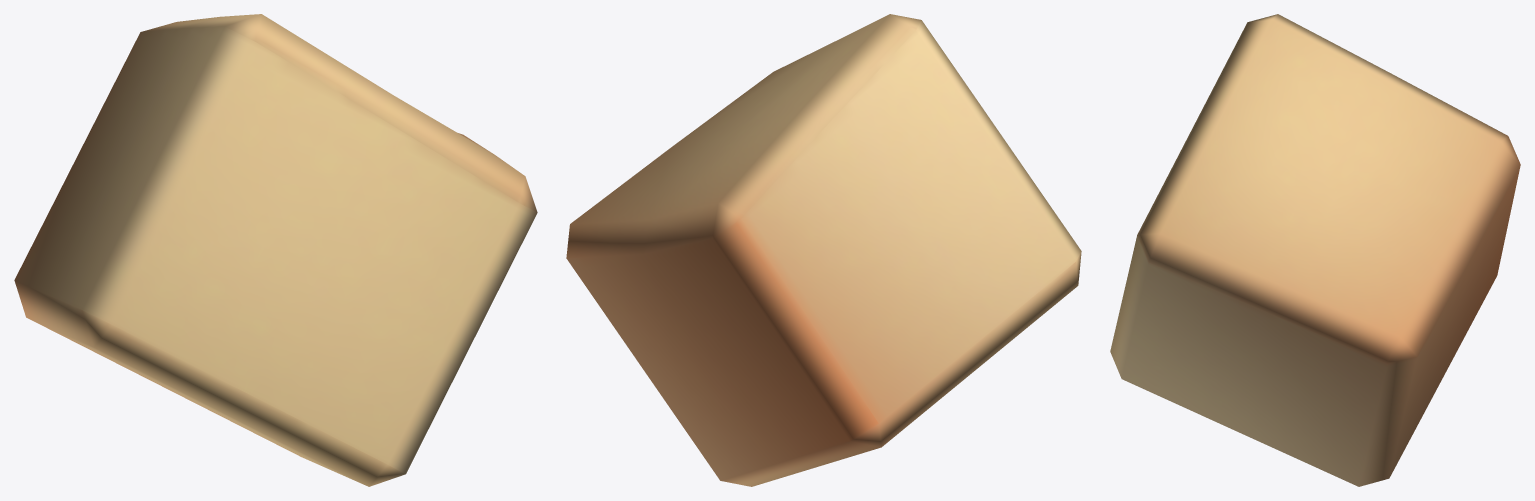
Rendered from JapaneseRestaurant_PotBTofuD.fbx.
3 renders of one model, left to right at view 1: azimuth 30°, elevation 25°; view 2: azimuth 150°, elevation 25°; view 3: azimuth 270°, elevation 25°, orthographic. The views are drawn at different scales.
Visible parts, largest first — view 1: JapaneseRestaurant_PotBTofuD; view 2: JapaneseRestaurant_PotBTofuD; view 3: JapaneseRestaurant_PotBTofuD.
Part boxes in pixels (box(x1,y1,x2,y2)): JapaneseRestaurant_PotBTofuD: box(14, 14, 537, 486); JapaneseRestaurant_PotBTofuD: box(566, 14, 1081, 486); JapaneseRestaurant_PotBTofuD: box(1110, 14, 1520, 486).
Size of the model in its own units: 3.84 by 3.9 by 3.45.
